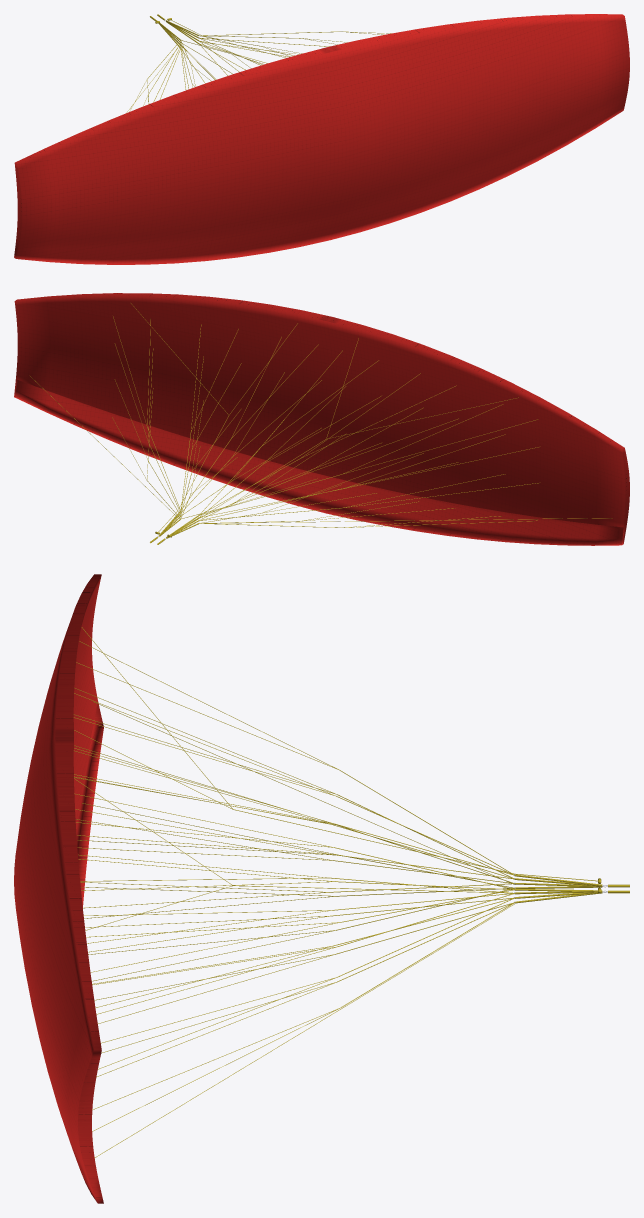
File: wing.glb
The picture shows the model from 3 angles, top to bottom: view 1: azimuth 30°, elevation 25°; view 2: azimuth 150°, elevation 25°; view 3: azimuth 270°, elevation 25°; orthographic projection. The views are drawn at different scales.
Parts seen in each view (by area): view 1: Wing; view 2: Wing; view 3: Wing.
Boxes of the visible parts, box(x1,y1,x2,y2) form: Wing: box(14, 14, 629, 264); Wing: box(14, 293, 629, 545); Wing: box(14, 574, 103, 1203).
Size of the model in its own units: 10 by 3 by 5.46.
13 materials, 11 textured.
